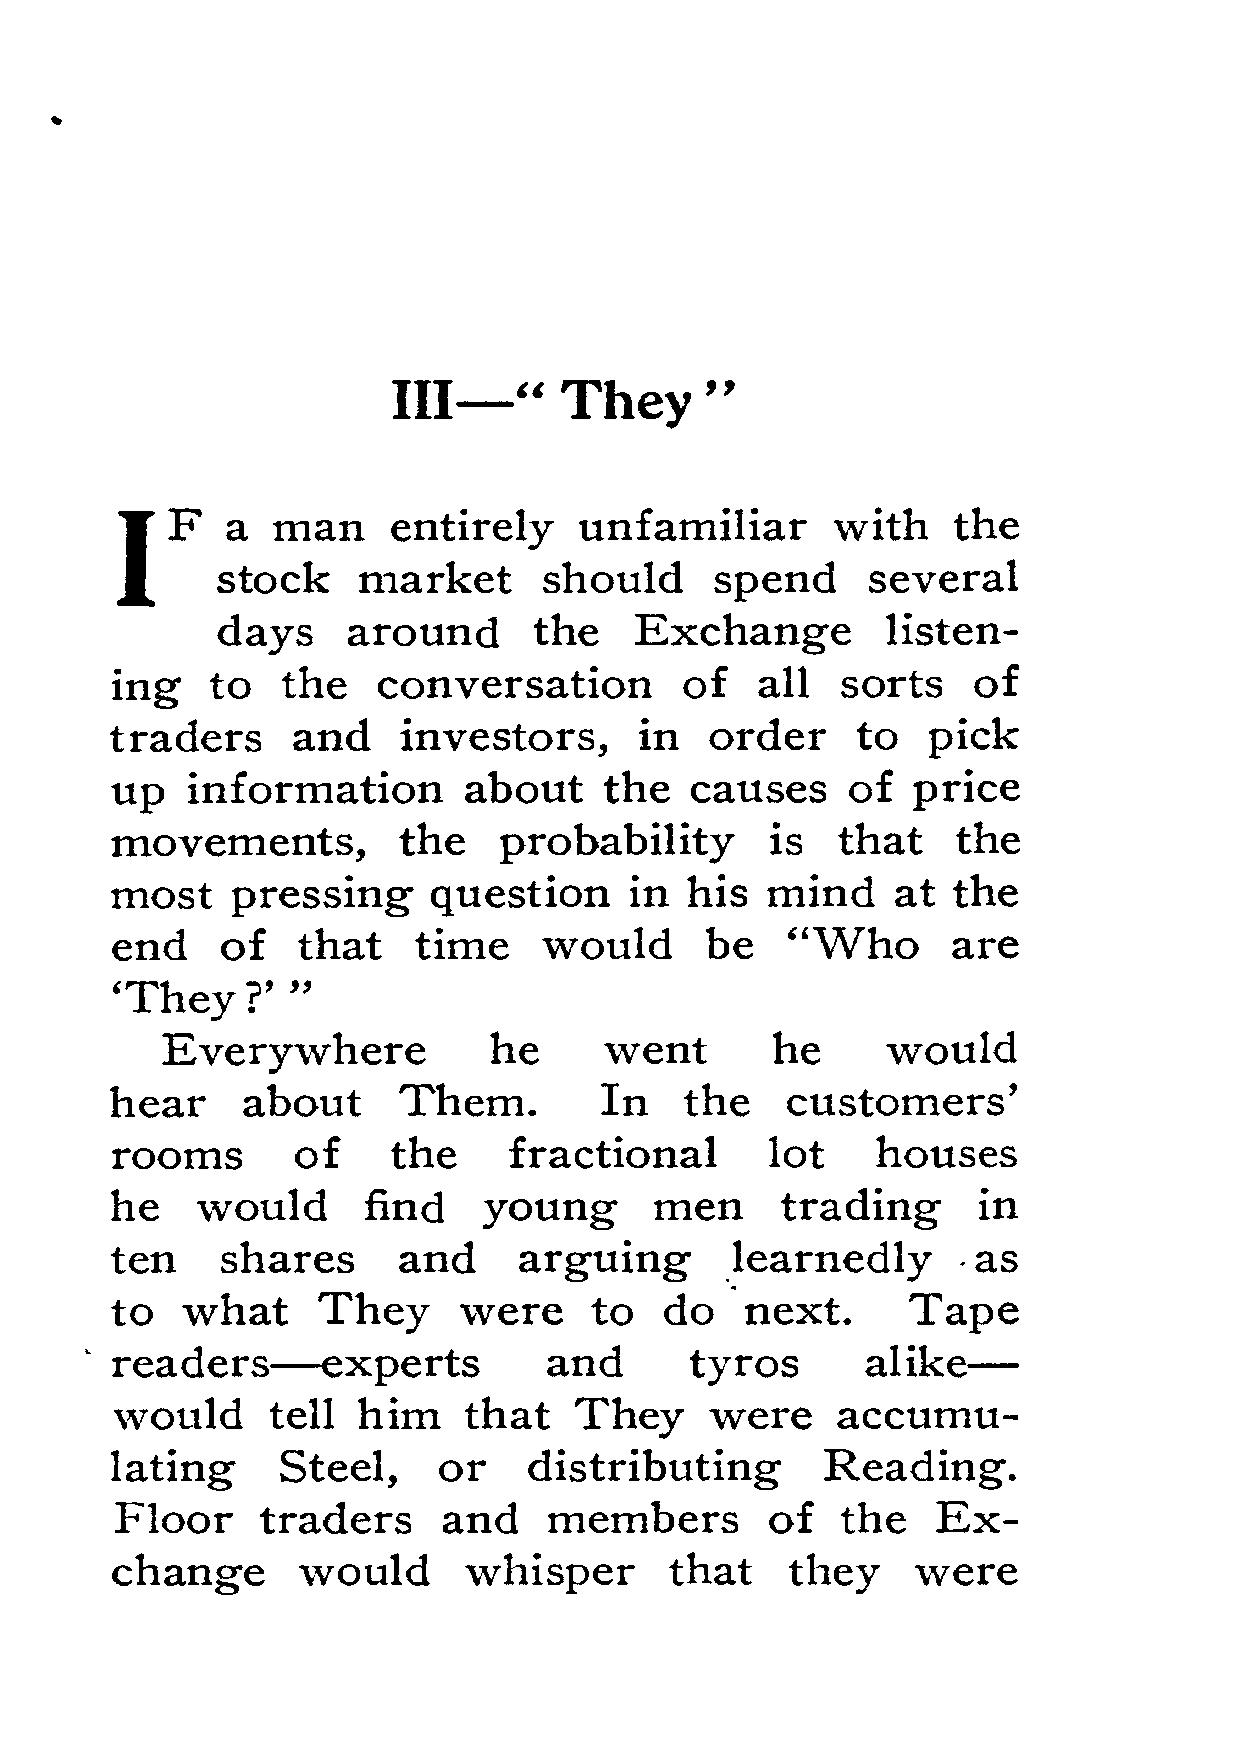chapter: (386, 372, 734, 429)
content: (105, 502, 1027, 1597)
